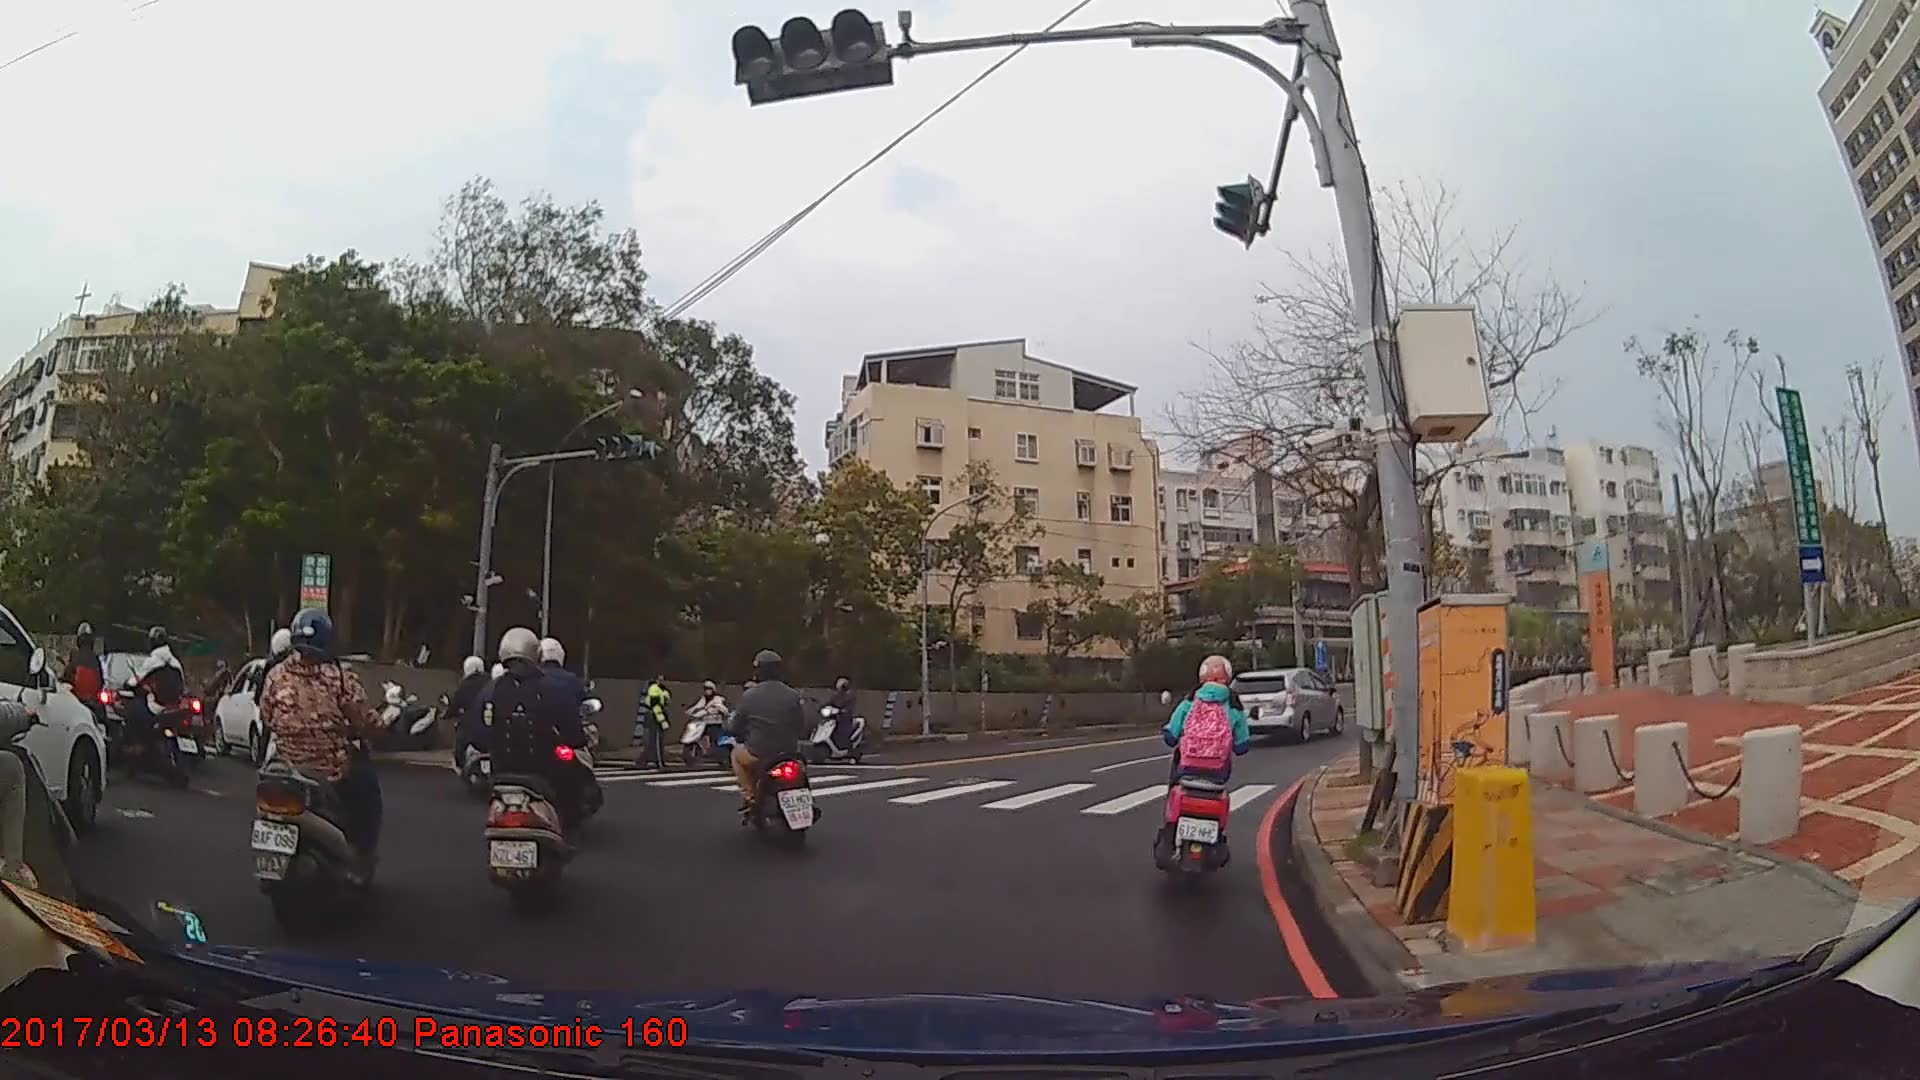pedestrian: (635, 671, 676, 775)
rider: (244, 609, 388, 928), (469, 626, 588, 906), (1159, 652, 1254, 881), (726, 648, 823, 851), (521, 636, 603, 828), (434, 657, 511, 798), (123, 625, 189, 785), (43, 624, 103, 770), (811, 678, 866, 765), (677, 678, 731, 761)
vehicle: (0, 603, 107, 836), (215, 658, 345, 765), (87, 650, 202, 764), (1219, 665, 1342, 745)
